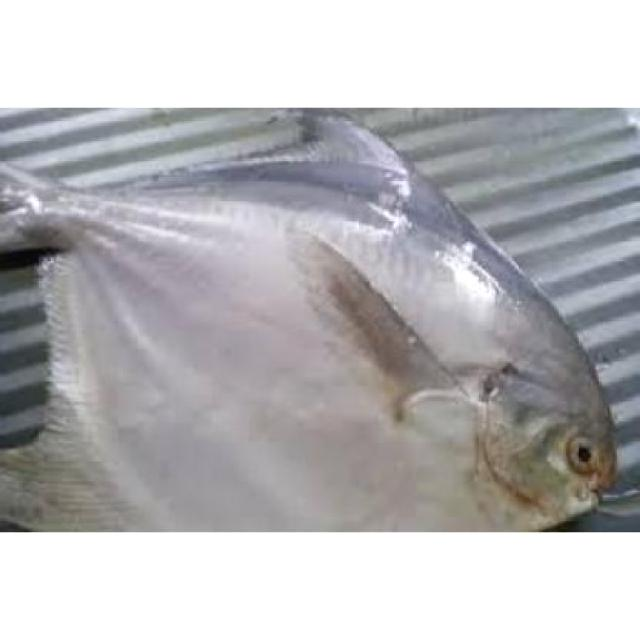ikan-pacu: (6, 119, 616, 530)
